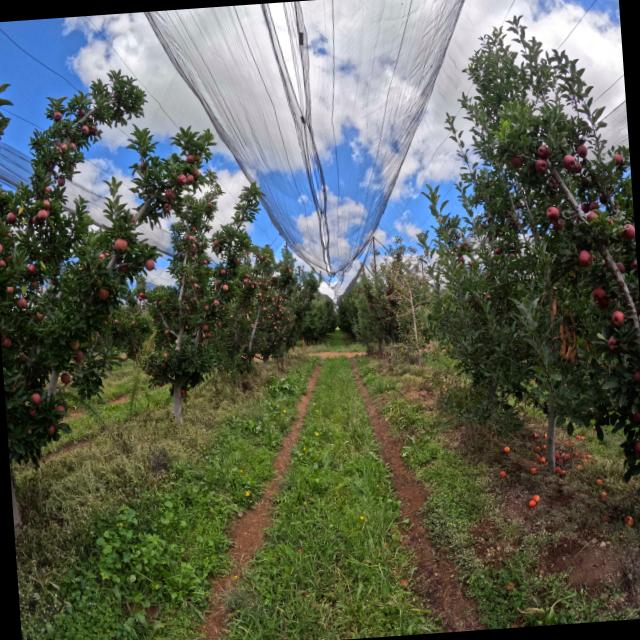-FireBlight-: (537, 286, 579, 364)
